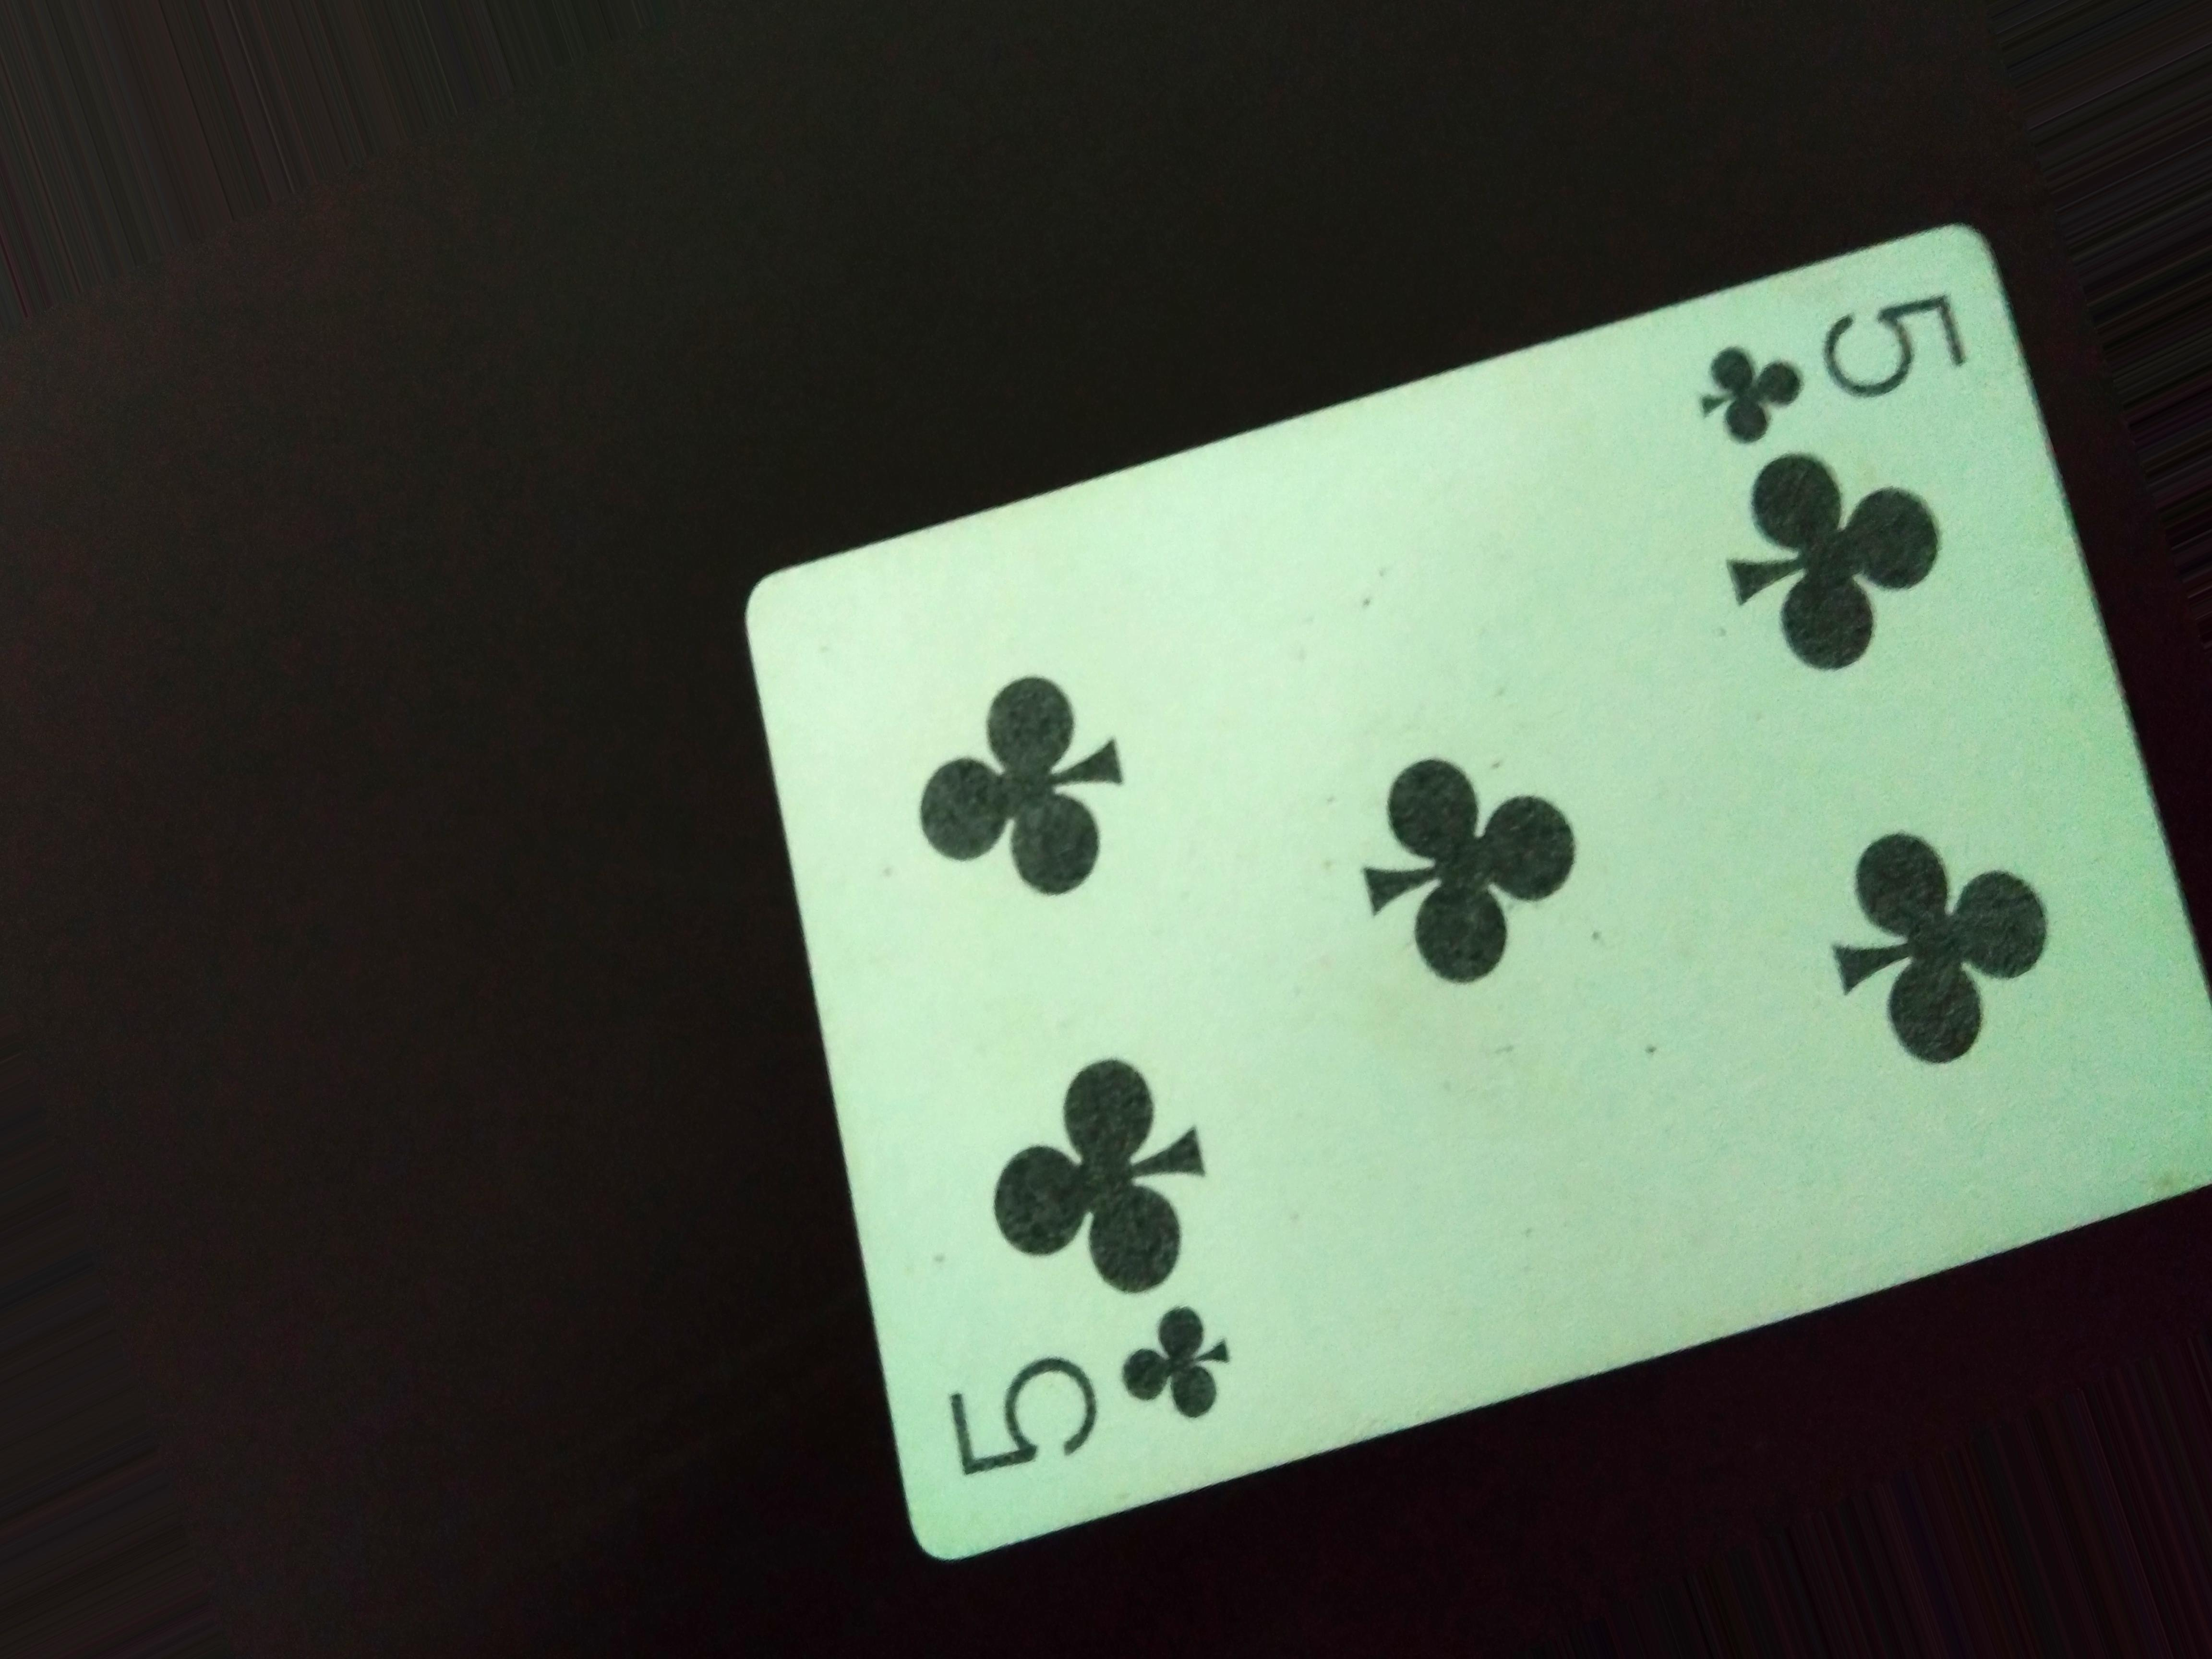5C: (946, 1300, 1249, 1469)
